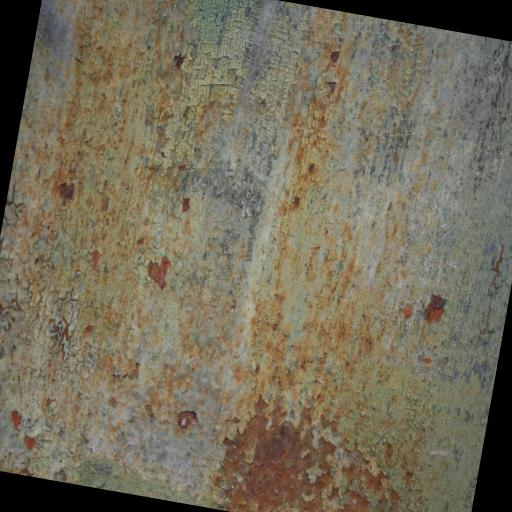segmentation: (213, 397, 400, 512), (147, 256, 170, 289), (423, 294, 445, 322), (177, 410, 198, 429), (58, 181, 74, 205), (11, 410, 21, 429), (23, 436, 35, 450), (173, 55, 183, 70), (181, 197, 189, 212), (83, 325, 93, 337), (62, 323, 69, 340), (330, 51, 339, 62), (327, 81, 336, 92)
